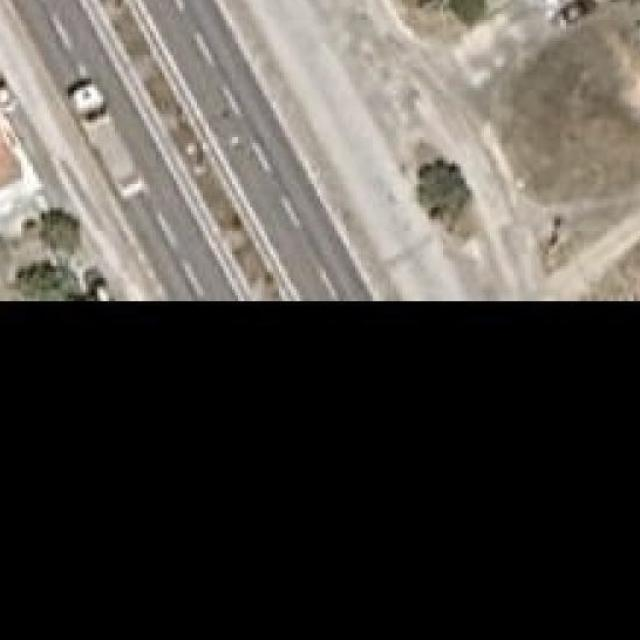Tree: (412, 158, 474, 217), (17, 260, 74, 301), (37, 204, 88, 248), (436, 0, 486, 20)
